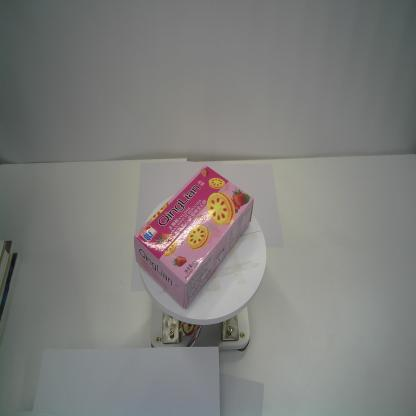Dessert: (133, 164, 255, 311)
